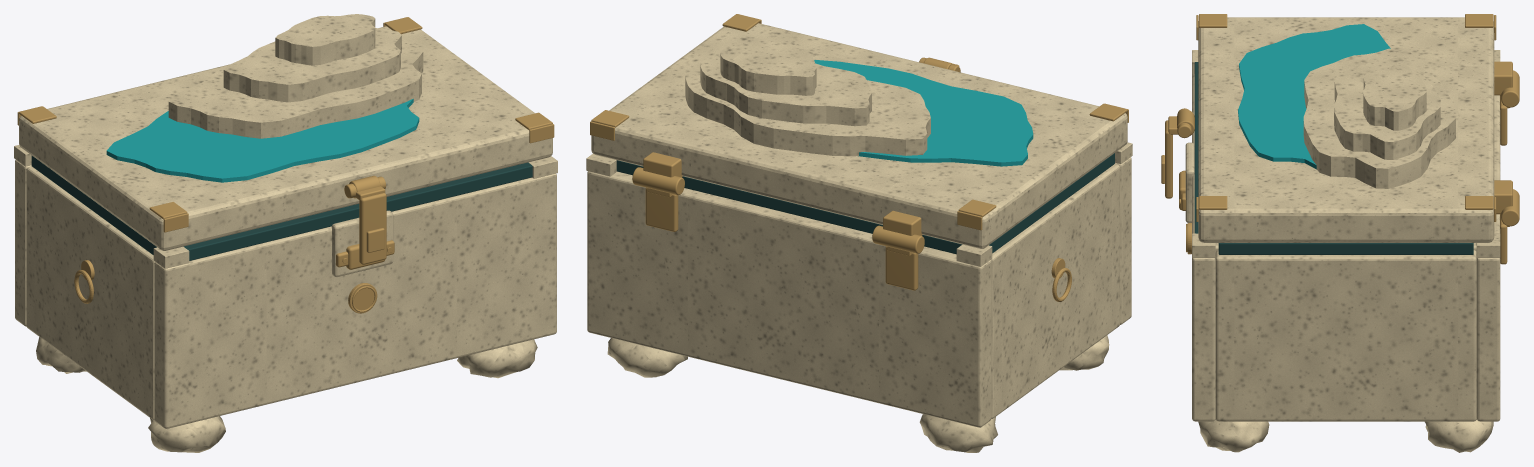
File: barbados.glb
3 views of the same model, side by side, from view 1: azimuth 30°, elevation 25°; view 2: azimuth 150°, elevation 25°; view 3: azimuth 270°, elevation 25° (orthographic).
Parts seen in each view (by area): view 1: Limestone / front rear, Lid / polished slab, Limestone / side, Coast / turquoise inlay, Terrace / lower, Terrace / middle, Mineral seam / long, Terrace / upper, Limestone foot, Limestone / front rear.001, Limestone foot.002, Latch / lifting hasp (+5 smaller); view 2: Limestone / front rear.001, Lid / polished slab, Limestone / side, Terrace / lower, Coast / turquoise inlay, Terrace / middle, Terrace / upper, Mineral seam / long.001, Limestone foot.001, Limestone / front rear, Limestone foot.003, Mineral seam / side (+8 smaller); view 3: Limestone / side.001, Lid / polished slab, Coast / turquoise inlay, Terrace / lower, Terrace / middle, Limestone / front rear.001, Limestone / front rear, Terrace / upper, Mineral seam / side.001, Limestone foot.002, Limestone foot.003, Mineral seam / long (+12 smaller).
Part boxes in pixels (left/top/right/bottom): Limestone / front rear: left=154, top=173, right=556, bottom=428; Lid / polished slab: left=19, top=26, right=552, bottom=250; Limestone / side: left=26, top=166, right=154, bottom=420; Coast / turquoise inlay: left=106, top=98, right=419, bottom=182; Terrace / lower: left=168, top=44, right=423, bottom=138; Terrace / middle: left=223, top=28, right=401, bottom=102; Mineral seam / long: left=183, top=162, right=532, bottom=260; Terrace / upper: left=275, top=14, right=375, bottom=65; Limestone foot: left=148, top=416, right=225, bottom=452; Limestone / front rear.001: left=15, top=160, right=31, bottom=326; Limestone foot.002: left=457, top=339, right=537, bottom=378; Latch / lifting hasp: left=359, top=193, right=386, bottom=264; Limestone / front rear.001: left=587, top=171, right=991, bottom=427; Lid / polished slab: left=591, top=23, right=1127, bottom=248; Limestone / side: left=991, top=164, right=1119, bottom=418; Terrace / lower: left=685, top=69, right=930, bottom=156; Coast / turquoise inlay: left=814, top=60, right=1033, bottom=166; Terrace / middle: left=700, top=58, right=871, bottom=126; Terrace / upper: left=720, top=44, right=816, bottom=95; Mineral seam / long.001: left=616, top=160, right=962, bottom=254; Limestone foot.001: left=919, top=414, right=997, bottom=452; Limestone / front rear: left=1115, top=157, right=1131, bottom=324; Limestone foot.003: left=607, top=338, right=687, bottom=377; Mineral seam / side: left=989, top=153, right=1114, bottom=253; Limestone / side.001: left=1215, top=250, right=1476, bottom=421; Lid / polished slab: left=1198, top=17, right=1494, bottom=242; Coast / turquoise inlay: left=1238, top=24, right=1390, bottom=169; Terrace / lower: left=1303, top=47, right=1455, bottom=188; Terrace / middle: left=1334, top=57, right=1440, bottom=159; Limestone / front rear.001: left=1476, top=95, right=1500, bottom=421; Limestone / front rear: left=1192, top=74, right=1215, bottom=421; Terrace / upper: left=1363, top=64, right=1426, bottom=130; Mineral seam / side.001: left=1218, top=243, right=1473, bottom=254; Limestone foot.002: left=1198, top=420, right=1269, bottom=452; Limestone foot.003: left=1425, top=420, right=1493, bottom=452; Mineral seam / long: left=1194, top=62, right=1198, bottom=233.
Bounding box in the file's own units: 3.79 × 2.8 × 2.88.
4 materials, 1 textured.
